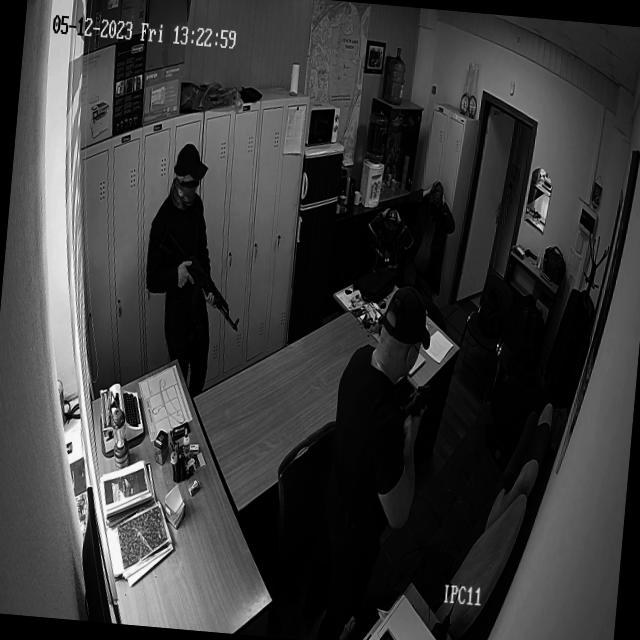gun: (150, 224, 250, 342), (400, 379, 435, 421)
person: (401, 175, 458, 288), (362, 202, 416, 275)
person with a gun: (314, 273, 443, 640), (138, 138, 258, 386)
